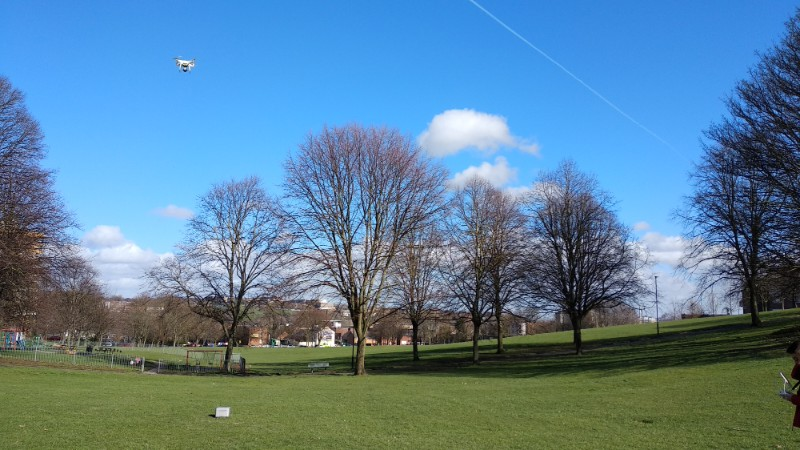drone: (173, 55, 197, 73)
